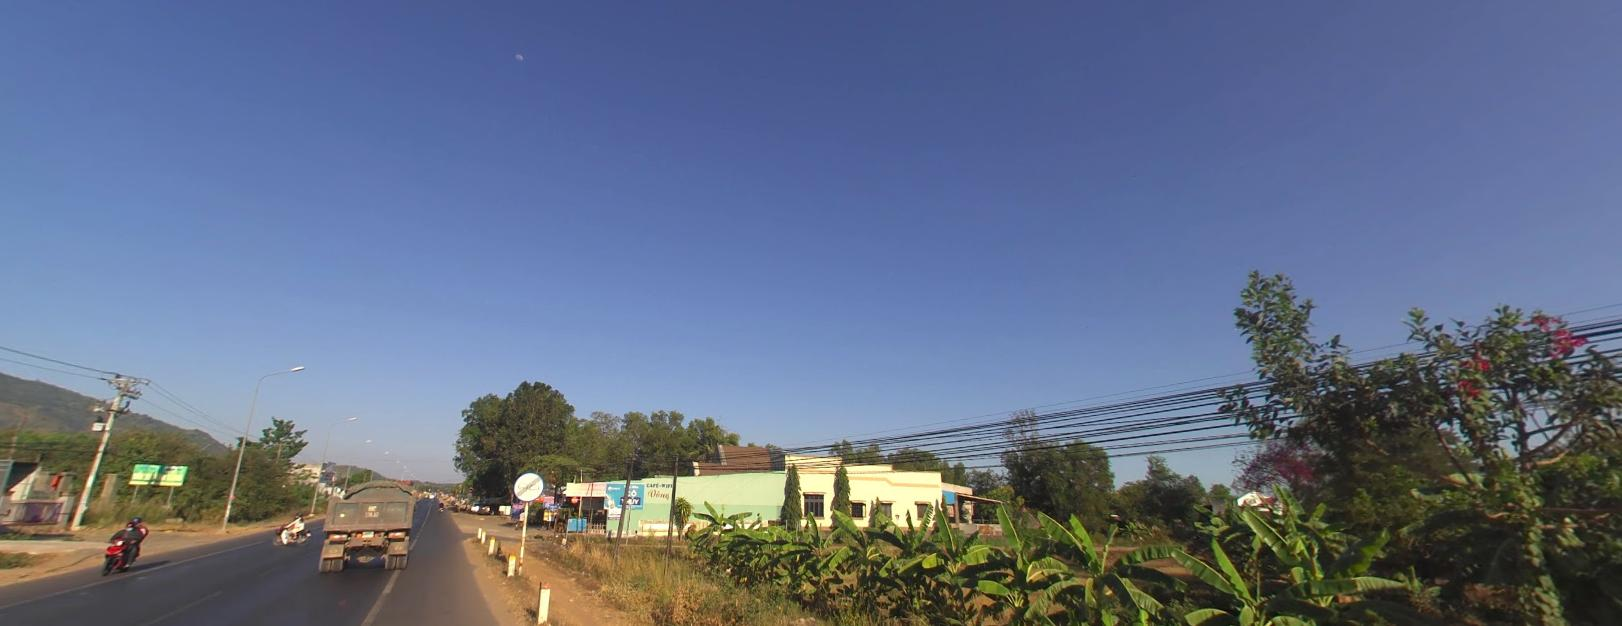Cam con lai: (512, 468, 544, 502)
